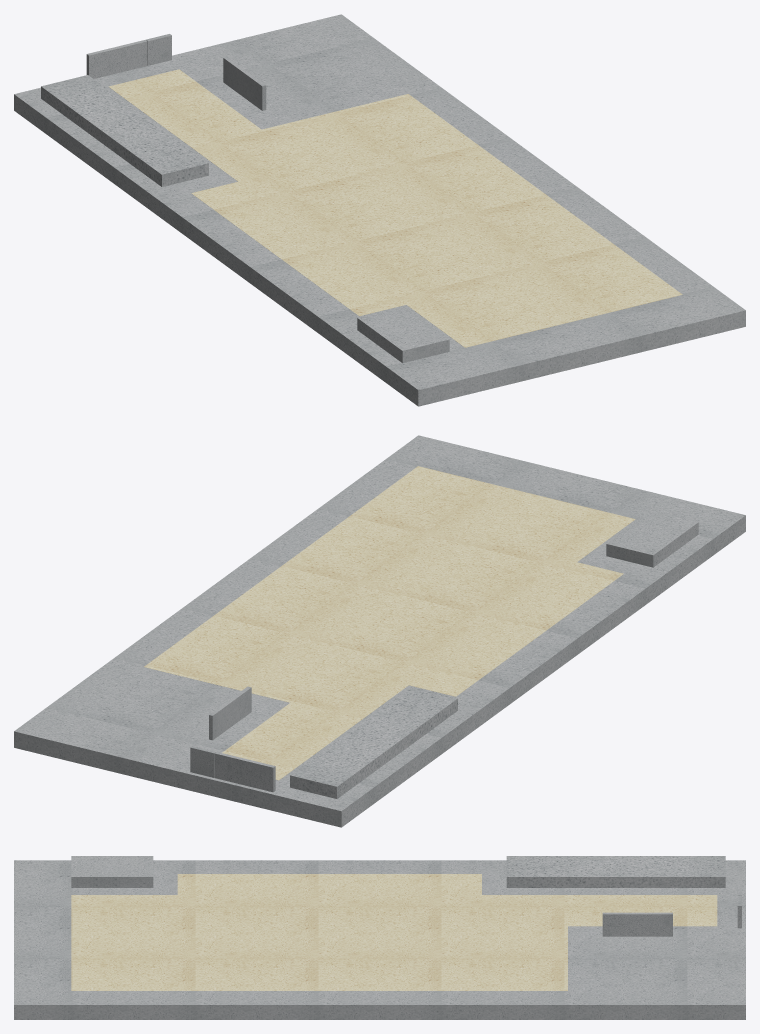
The model's file is ground.FBX.
3 views of the same model, one above another, from view 1: azimuth 30°, elevation 25°; view 2: azimuth 150°, elevation 25°; view 3: azimuth 270°, elevation 25° (orthographic). The views are drawn at different scales.
Parts seen in each view (by area): view 1: ground; view 2: ground; view 3: ground.
Boxes of the visible parts, box(x1,y1,x2,y2) form: ground: box(14, 14, 745, 406); ground: box(14, 435, 745, 827); ground: box(14, 856, 745, 1019).
Bounding box in the file's own units: 4175 × 500 × 8930.
